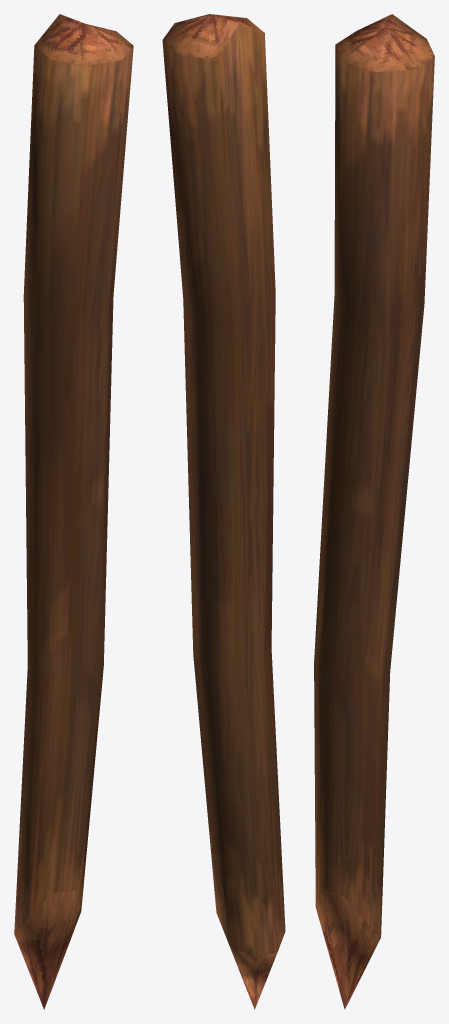
File: CH4_INTRO_ANIM_INST.fbx
3 views of the same model, side by side, from view 1: azimuth 30°, elevation 25°; view 2: azimuth 210°, elevation 25°; view 3: azimuth 330°, elevation 25° (orthographic). The views are drawn at different scales.
Parts seen in each view (by area): view 1: CH4_INTRO_ANIM_INST; view 2: CH4_INTRO_ANIM_INST; view 3: CH4_INTRO_ANIM_INST.
Part boxes in pixels (box(x1,y1,x2,y2)): CH4_INTRO_ANIM_INST: box(14, 14, 133, 1009); CH4_INTRO_ANIM_INST: box(162, 14, 285, 1009); CH4_INTRO_ANIM_INST: box(314, 14, 434, 1009).
Size of the model in its own units: 754 by 6802 by 634.
2 materials, 2 textured.
